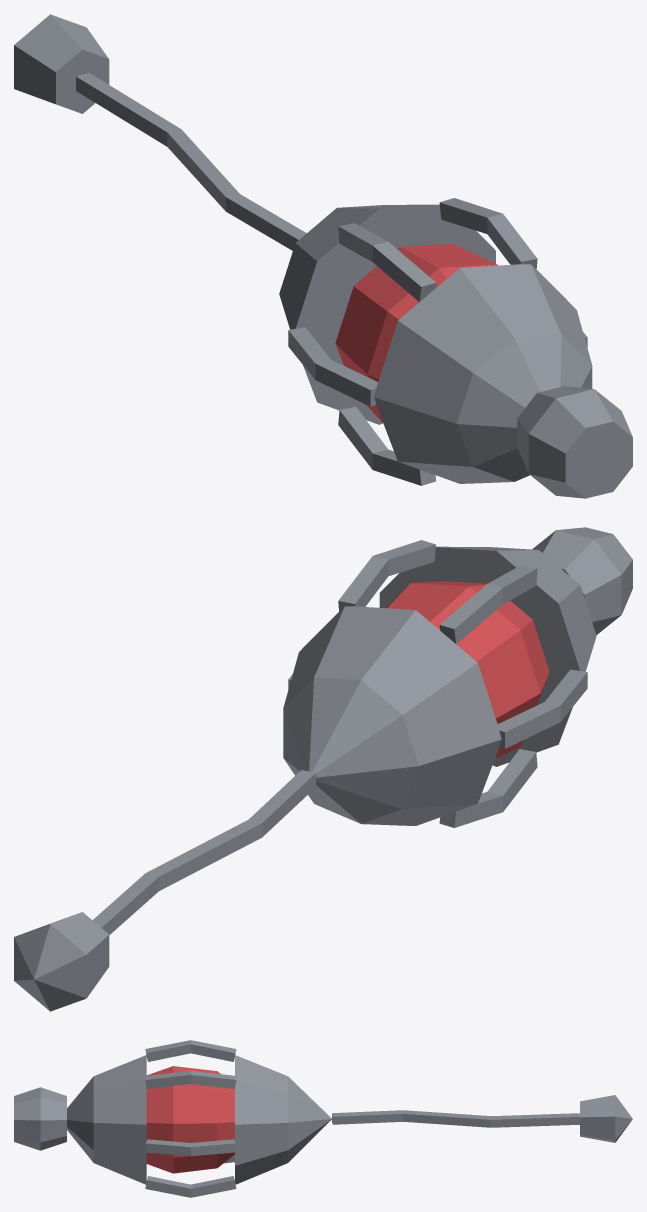
Rendered from embercenser.glb.
The picture shows the model from 3 angles, top to bottom: view 1: azimuth 30°, elevation 25°; view 2: azimuth 150°, elevation 25°; view 3: azimuth 270°, elevation 25°; orthographic projection. The views are drawn at different scales.
Visible parts, largest first — view 1: embercenser; view 2: embercenser; view 3: embercenser.
Part boxes in pixels (box(x1,y1,x2,y2)): embercenser: box(14, 14, 632, 498); embercenser: box(14, 527, 632, 1011); embercenser: box(14, 1040, 632, 1197).
Bounding box in the file's own units: 0.1753 × 0.1533 × 0.7.
